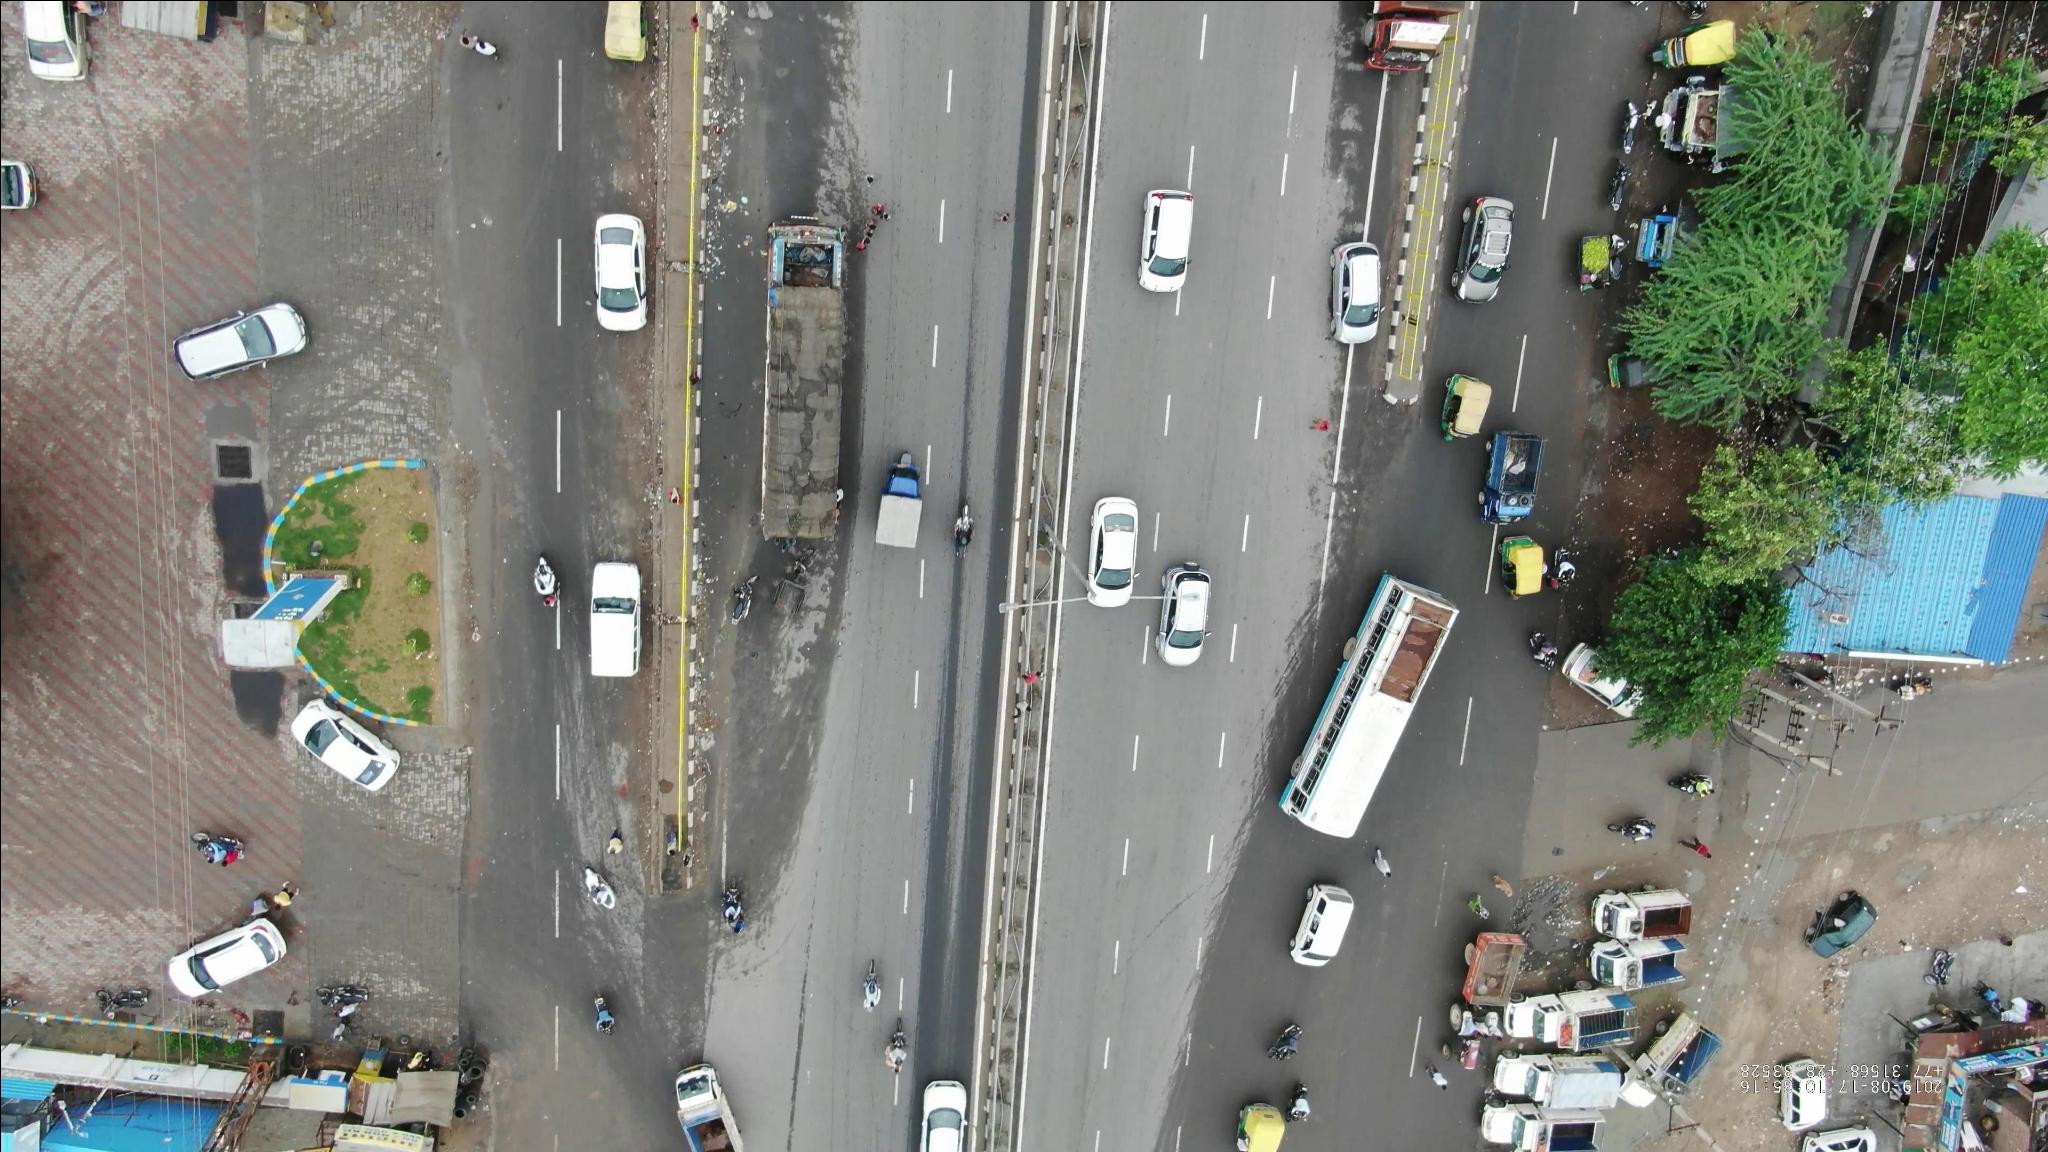Muddy_road: (1595, 423, 1674, 549)
